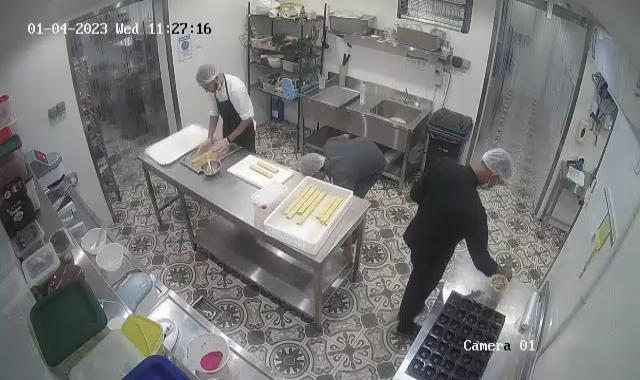hairnet: (478, 147, 512, 190), (298, 153, 328, 177), (195, 62, 222, 85)
